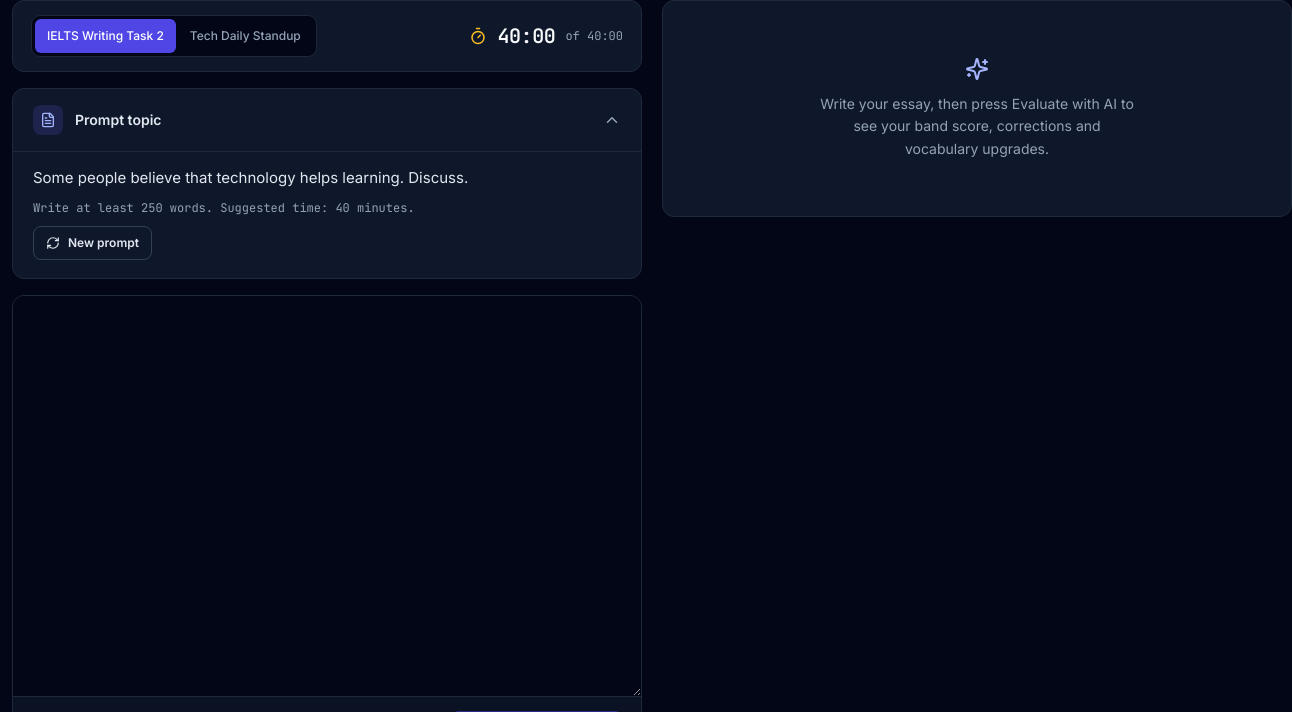
Test: New prompt loads a different prompt and restarts the countdown
Expected: the text "Some people believe that technology helps learning. Discuss." is shown, [33,168,468,187]
Click the button "New prompt": (92, 243) [33,226,152,260]
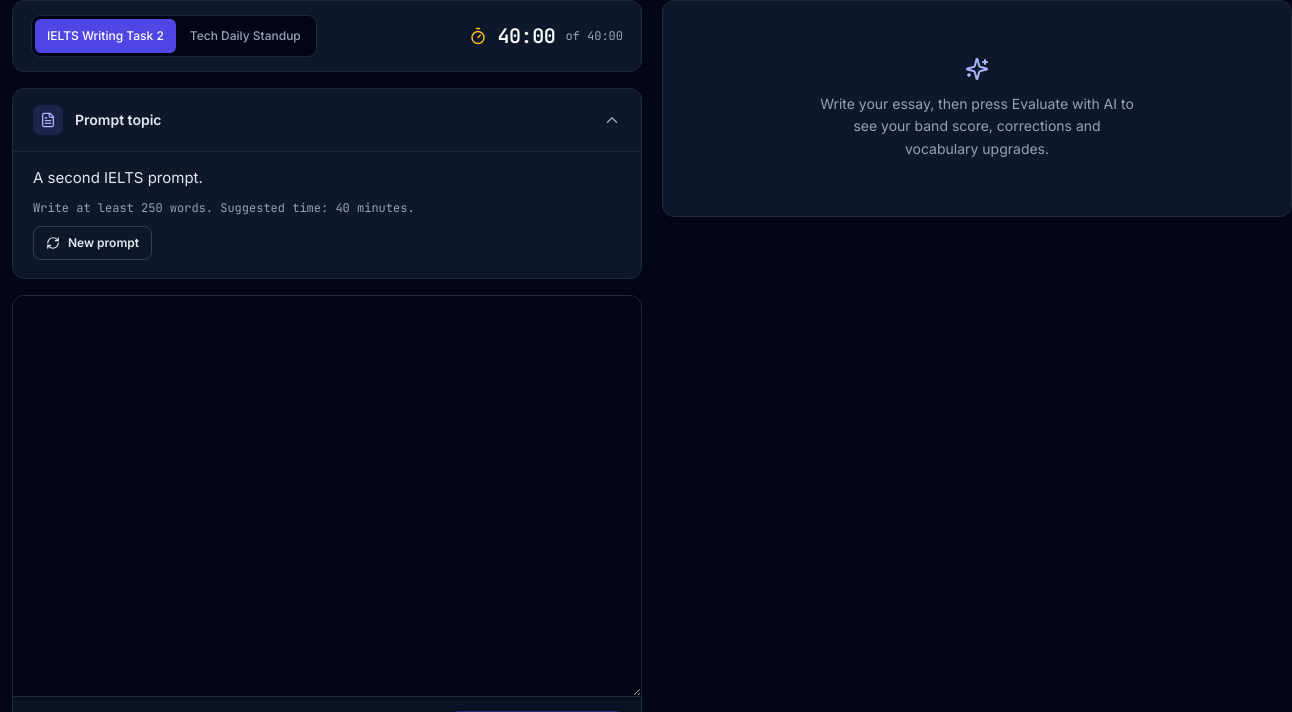
Expected: the element named "Time remaining" shows "40:00", [497,23,555,49]
Expected: the text "A second IELTS prompt." is shown, [33,168,203,187]
Expected: the text "Some people believe that technology helps learning. Discuss." is gone
